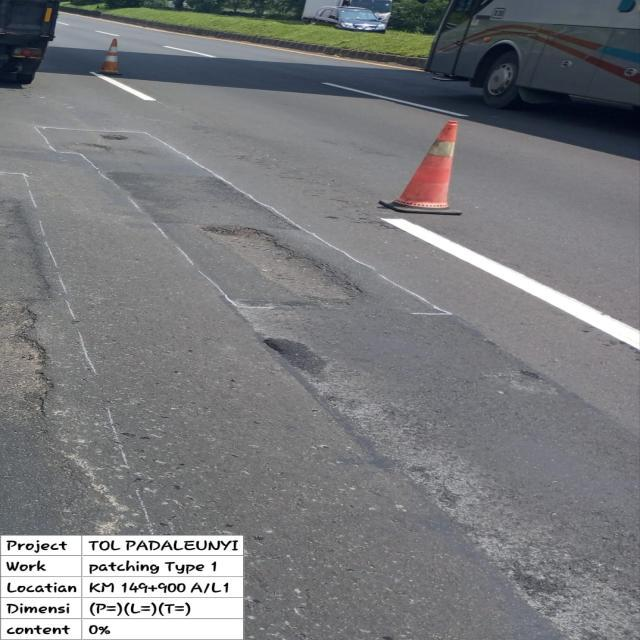Buraco: (192, 222, 367, 304), (0, 296, 58, 417), (260, 336, 334, 386), (60, 140, 115, 156), (96, 133, 131, 143)
